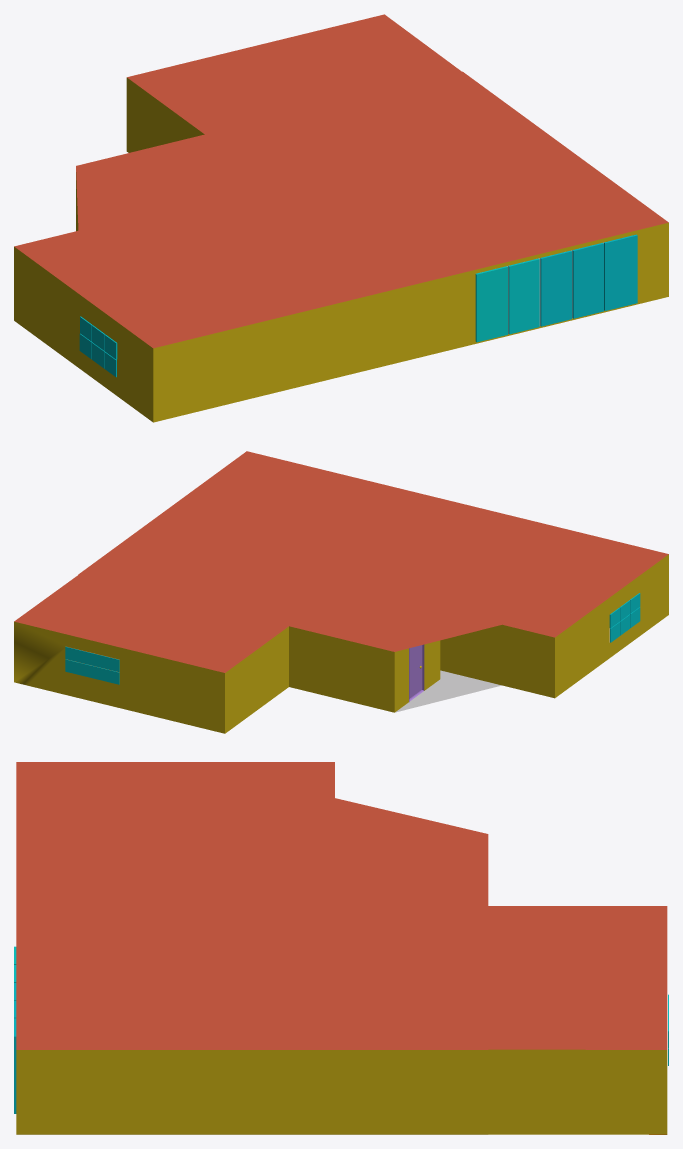
The model's file is Apartment_with_Glass_panes 1.fbx.
3 renders of one model, top to bottom at view 1: azimuth 30°, elevation 25°; view 2: azimuth 150°, elevation 25°; view 3: azimuth 270°, elevation 25°, orthographic. The views are drawn at different scales.
Visible parts, largest first — view 1: Apartment, Glass pane, Glass pane.004, Glass pane.002, Glass pane.003, Glass pane.001; view 2: Apartment; view 3: Apartment.
Boxes of the visible parts, x1=… form: Apartment: x1=14, y1=14, x2=668, y2=422; Glass pane: x1=604, y1=234, x2=637, y2=310; Glass pane.004: x1=475, y1=266, x2=507, y2=342; Glass pane.002: x1=540, y1=250, x2=571, y2=326; Glass pane.003: x1=508, y1=258, x2=539, y2=334; Glass pane.001: x1=572, y1=242, x2=603, y2=318; Apartment: x1=14, y1=451, x2=668, y2=733; Apartment: x1=16, y1=762, x2=667, y2=1134.
Size of the model in its own units: 2916 by 402 by 2798.
